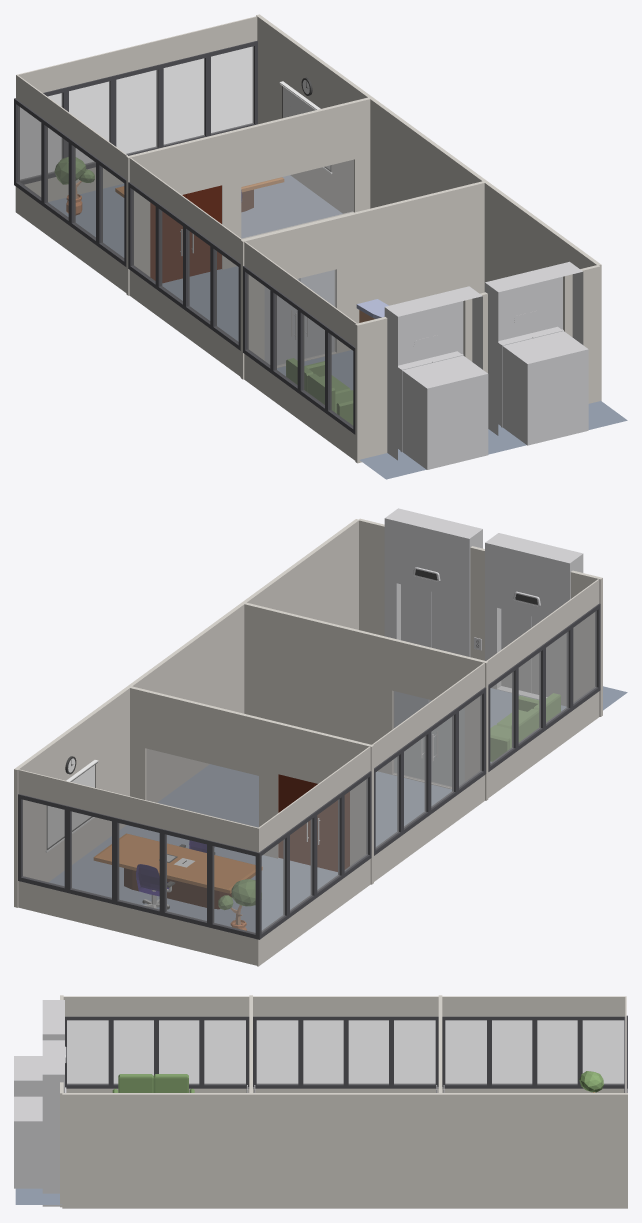
Rendered from office.fbx.
The picture shows the model from 3 angles, top to bottom: view 1: azimuth 30°, elevation 25°; view 2: azimuth 150°, elevation 25°; view 3: azimuth 270°, elevation 25°; orthographic projection. The views are drawn at different scales.
Parts seen in each view (by area): view 1: Cube.029, Cube.016, Cube.034, Cube.032, Plane.012, Plane.008, Cube.018, Cube.019, Cube.022, Plane.026, Plane.025, Plane.013 (+17 smaller); view 2: Cube.016, Cube.029, Plane.012, Plane.008, Cube.032, Cube.018, Cube.034, Cube.019, Cube.022, Plane.026, Plane.013, Plane.025 (+19 smaller); view 3: Cube.016, Cube.022, Plane.025, Plane.013, Plane.026, Cube.032, Plane.023, Plane.010, Plane.027, Cube.019, Cube.034, Cube.052 (+4 smaller).
Boxes of the visible parts, left/top/right/bottom form: Cube.029: left=240, top=181, right=484, bottom=379; Cube.016: left=256, top=14, right=601, bottom=400; Cube.034: left=384, top=286, right=488, bottom=469; Cube.032: left=485, top=261, right=588, bottom=445; Plane.012: left=20, top=46, right=253, bottom=180; Plane.008: left=48, top=175, right=627, bottom=479; Cube.018: left=221, top=97, right=370, bottom=269; Cube.019: left=15, top=186, right=355, bottom=460; Cube.022: left=16, top=74, right=356, bottom=346; Plane.026: left=247, top=273, right=353, bottom=426; Plane.025: left=132, top=189, right=238, bottom=343; Plane.013: left=18, top=106, right=124, bottom=259; Cube.016: left=14, top=519, right=359, bottom=907; Cube.029: left=244, top=602, right=488, bottom=800; Plane.012: left=22, top=800, right=255, bottom=933; Plane.008: left=49, top=686, right=627, bottom=932; Cube.032: left=384, top=508, right=482, bottom=656; Cube.018: left=130, top=686, right=278, bottom=858; Cube.034: left=485, top=533, right=583, bottom=706; Cube.019: left=257, top=691, right=599, bottom=966; Cube.022: left=257, top=579, right=599, bottom=852; Plane.026: left=490, top=611, right=596, bottom=764; Plane.013: left=261, top=778, right=367, bottom=931; Plane.025: left=375, top=695, right=481, bottom=848; Cube.016: left=62, top=1093, right=627, bottom=1208; Cube.022: left=63, top=996, right=626, bottom=1016; Plane.025: left=256, top=1020, right=435, bottom=1084; Plane.013: left=445, top=1020, right=624, bottom=1084; Plane.026: left=67, top=1020, right=245, bottom=1084; Cube.032: left=14, top=1040, right=66, bottom=1206; Plane.023: left=253, top=1016, right=438, bottom=1088; Plane.010: left=442, top=1015, right=627, bottom=1088; Plane.027: left=65, top=1016, right=249, bottom=1088; Cube.019: left=66, top=1088, right=624, bottom=1092; Cube.034: left=14, top=1000, right=66, bottom=1096; Cube.052: left=112, top=1074, right=194, bottom=1092.
Size of the model in its own units: 2612 by 1620 by 6838.
